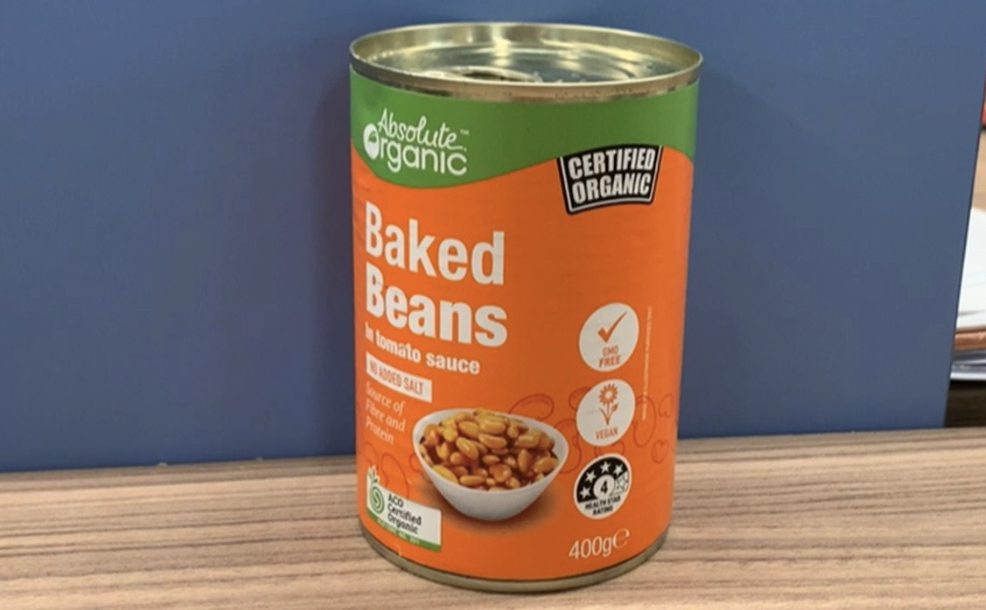Baked beans_450g: (365, 114, 654, 563)
